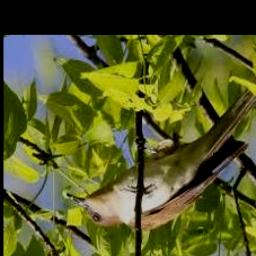Cuckoo: (67, 71, 256, 229)
